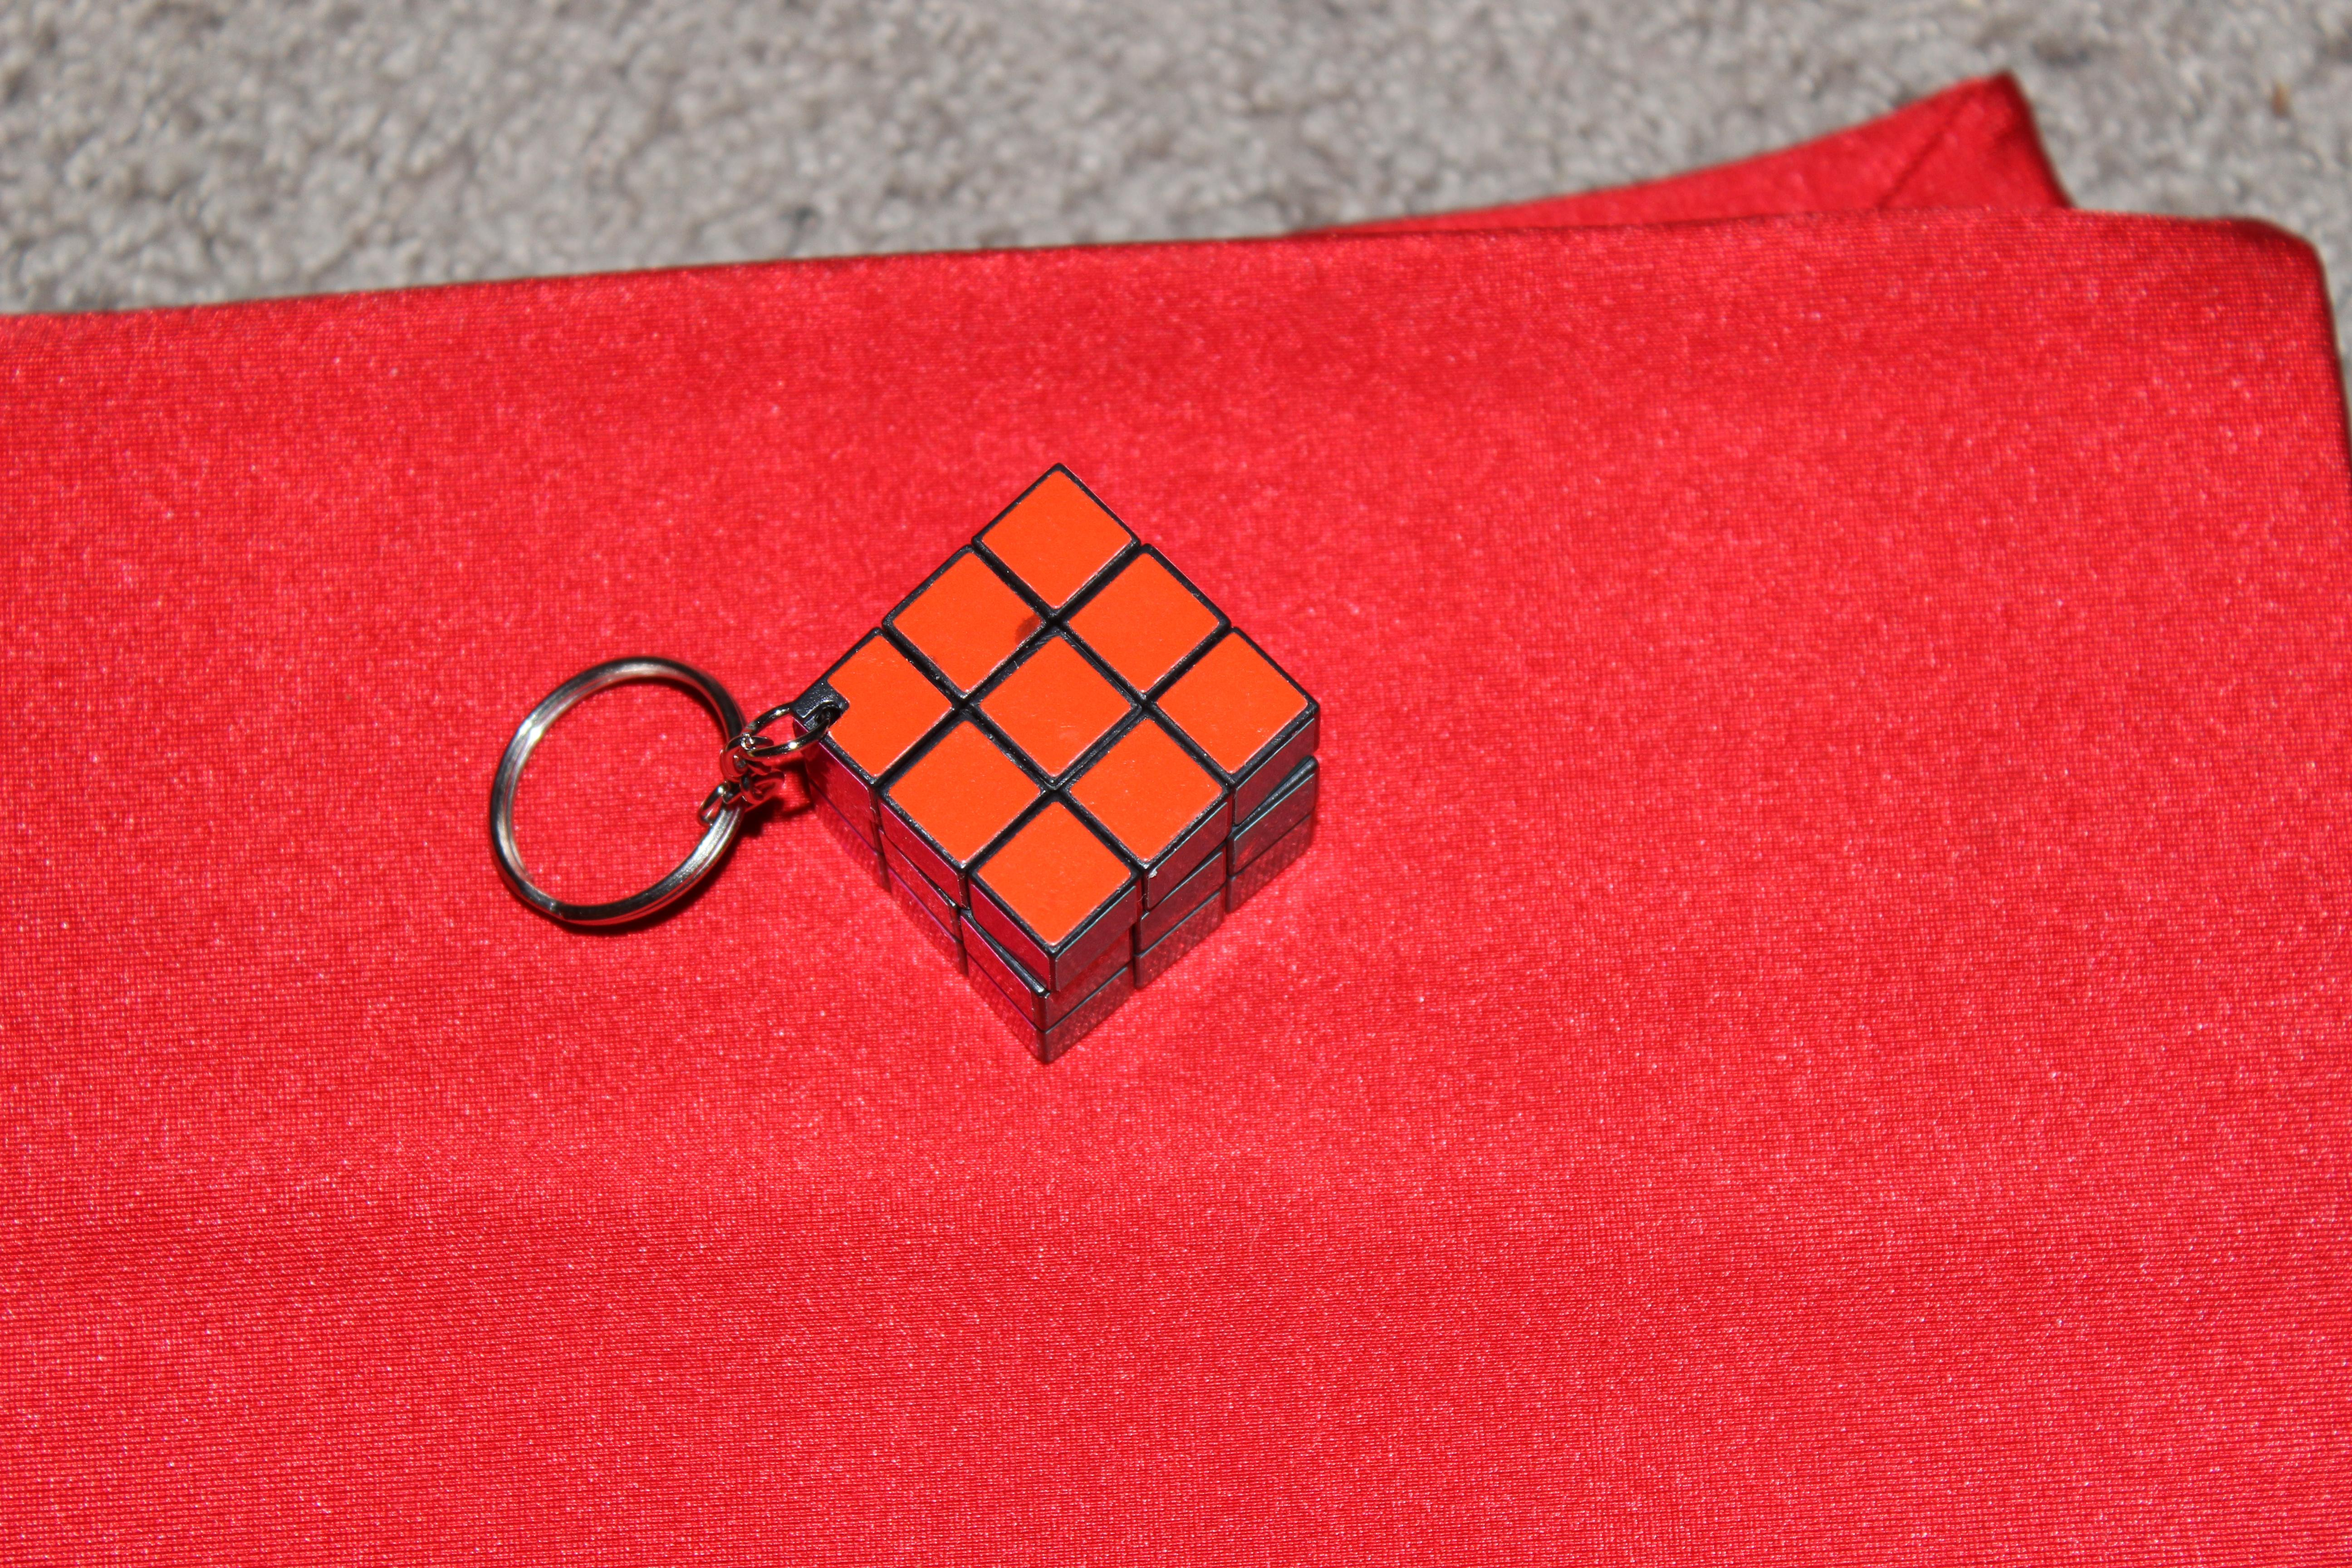rubiksCube: (738, 436, 1362, 1089)
